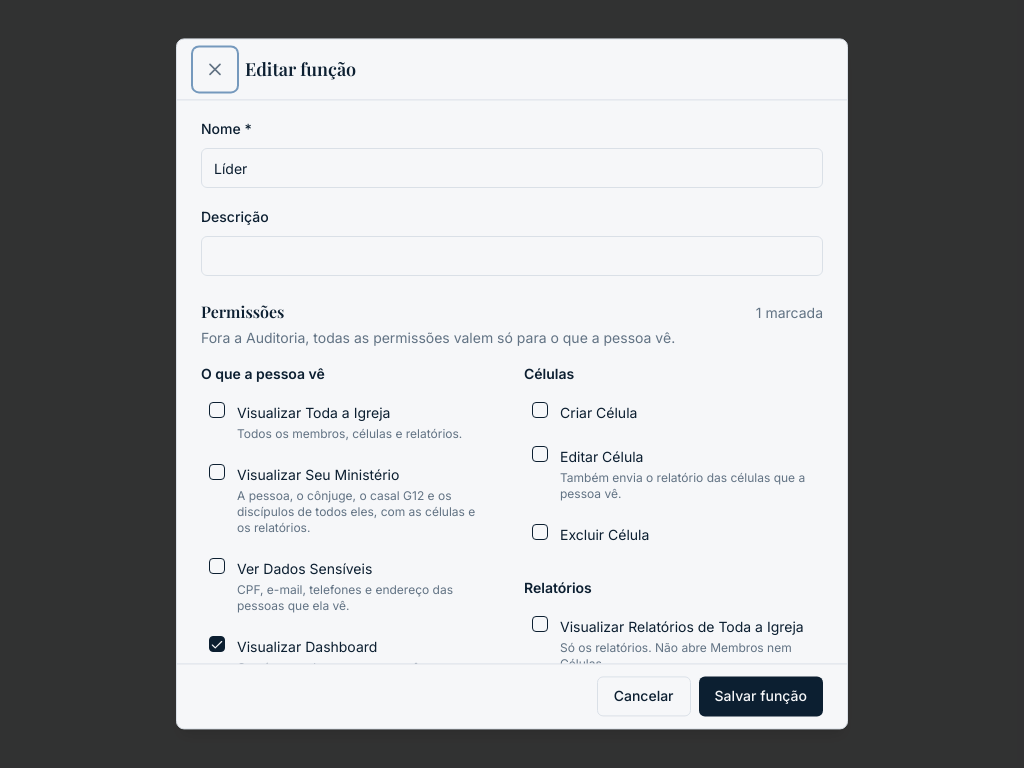
Scenario: RoleForm (T3) › fechar com alterações pede para descartar; sem alterações, fecha direto
Later steps or results of the test are not shown.
Click the button "Cancelar" at (644, 697), box [597,677,690,717]
Replace the text in the field labelled "Nome *" with "Líderes" at (512, 168), box [201,148,823,188]
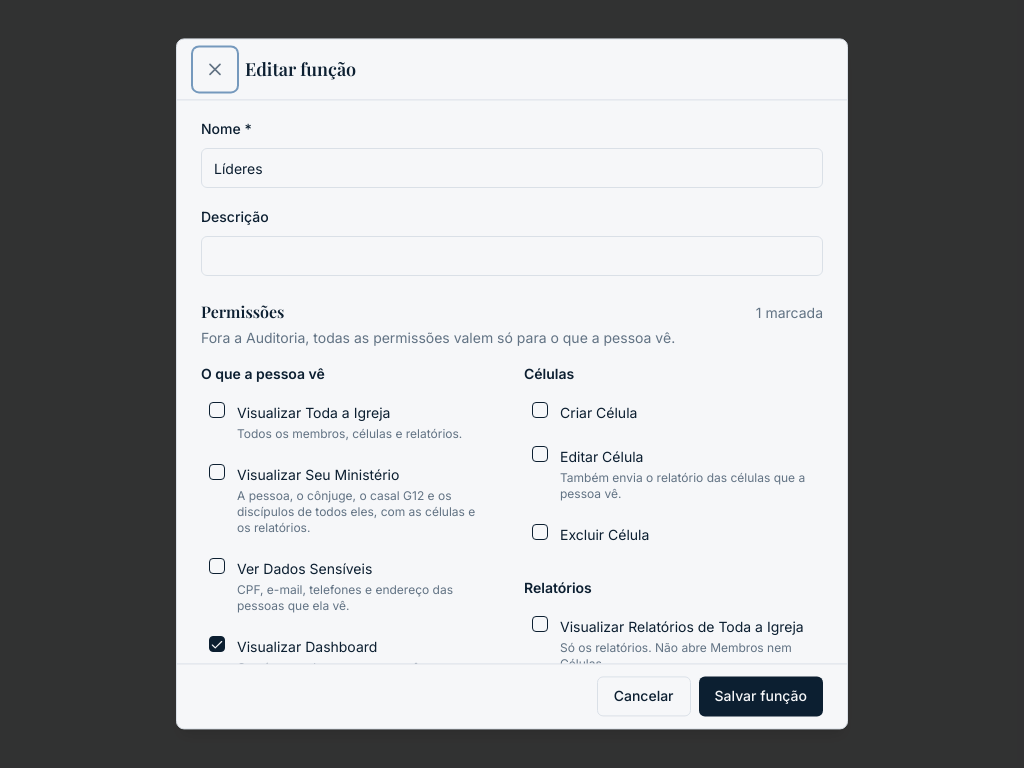
Click the button "Cancelar" at (644, 697), box [597,677,690,717]
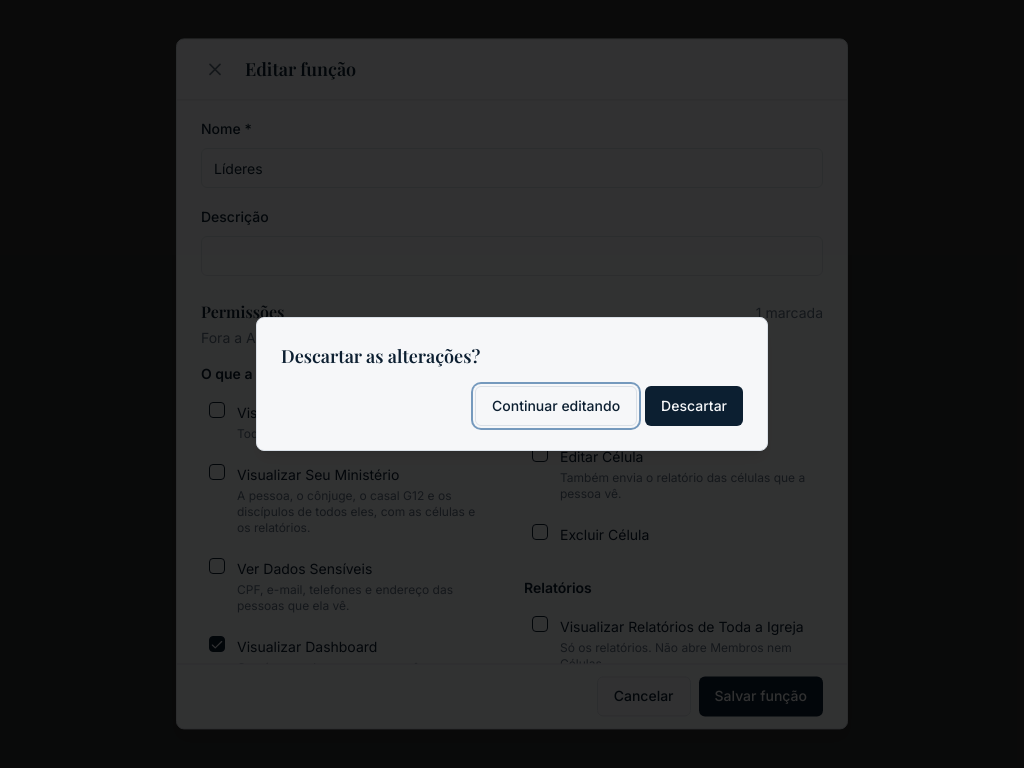
Now the heading "Descartar as alterações?" is shown, box [281,344,480,368]
